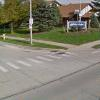Crosswalk: (3, 49, 85, 72)
